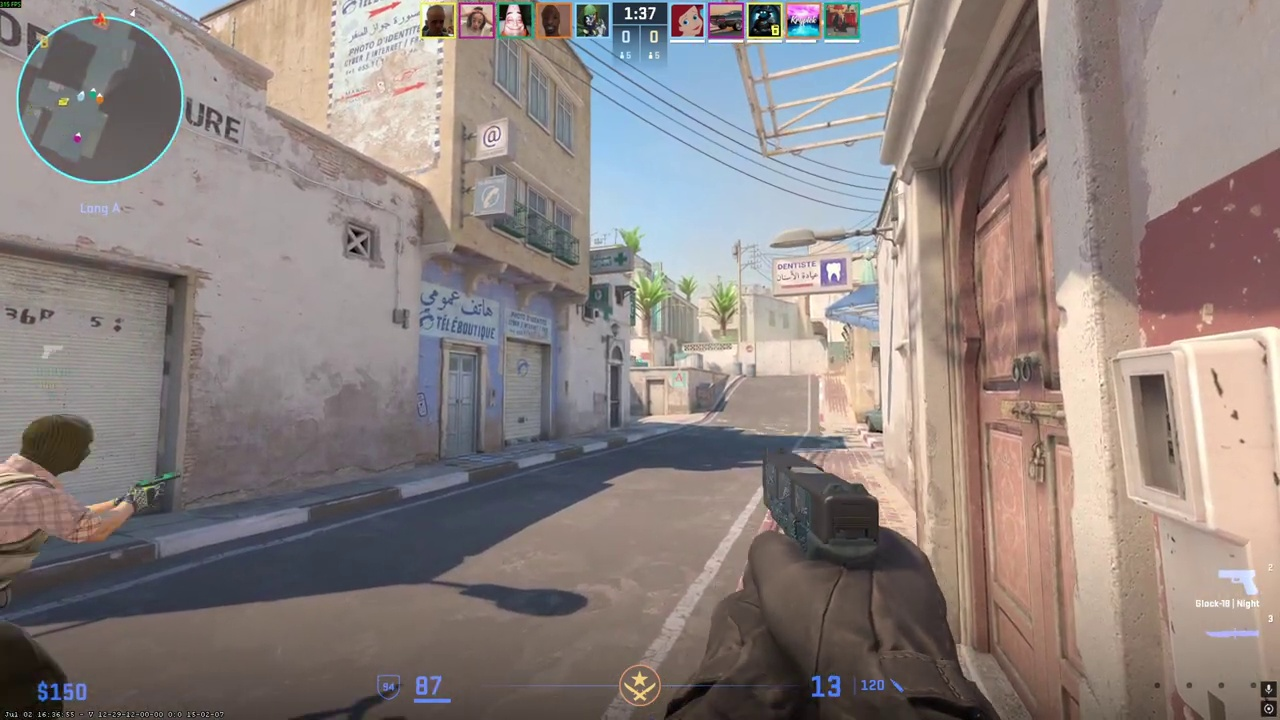Terrorist: (0, 412, 112, 720)
